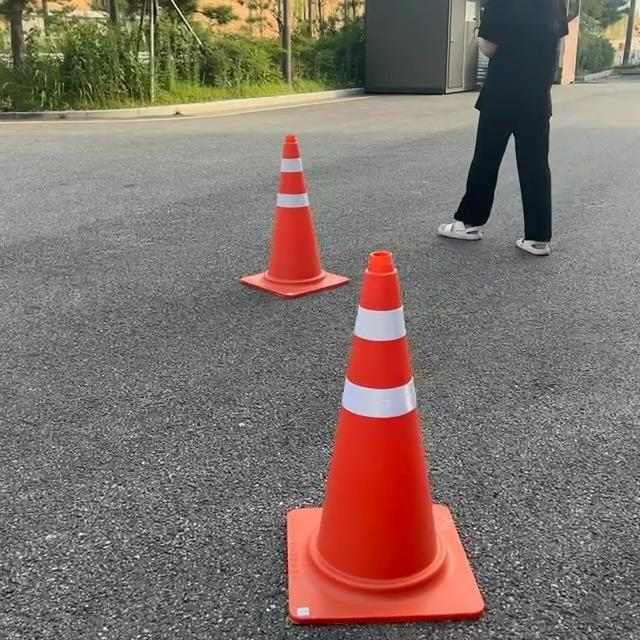fallen_object: (311, 234, 489, 624), (212, 126, 336, 311)
